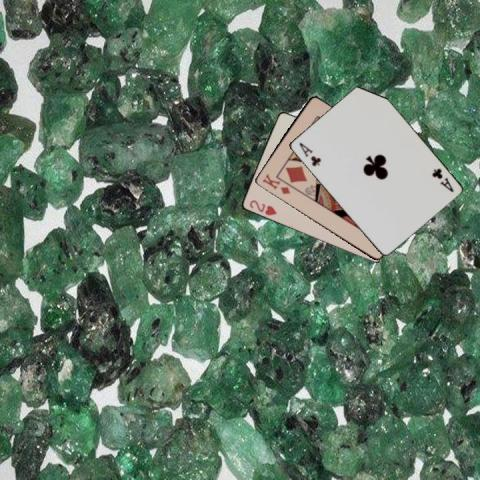2h: (246, 197, 278, 216)
Ac: (296, 139, 322, 168), (428, 166, 454, 194)
Kd: (260, 171, 292, 196)
